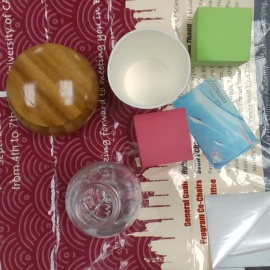bottle: (64, 161, 143, 237)
card: (175, 78, 258, 168)
chess: (5, 43, 100, 136)
cup: (108, 28, 192, 109)
